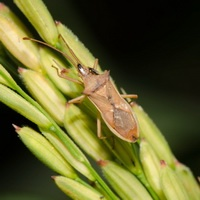insect: (23, 37, 138, 142)
